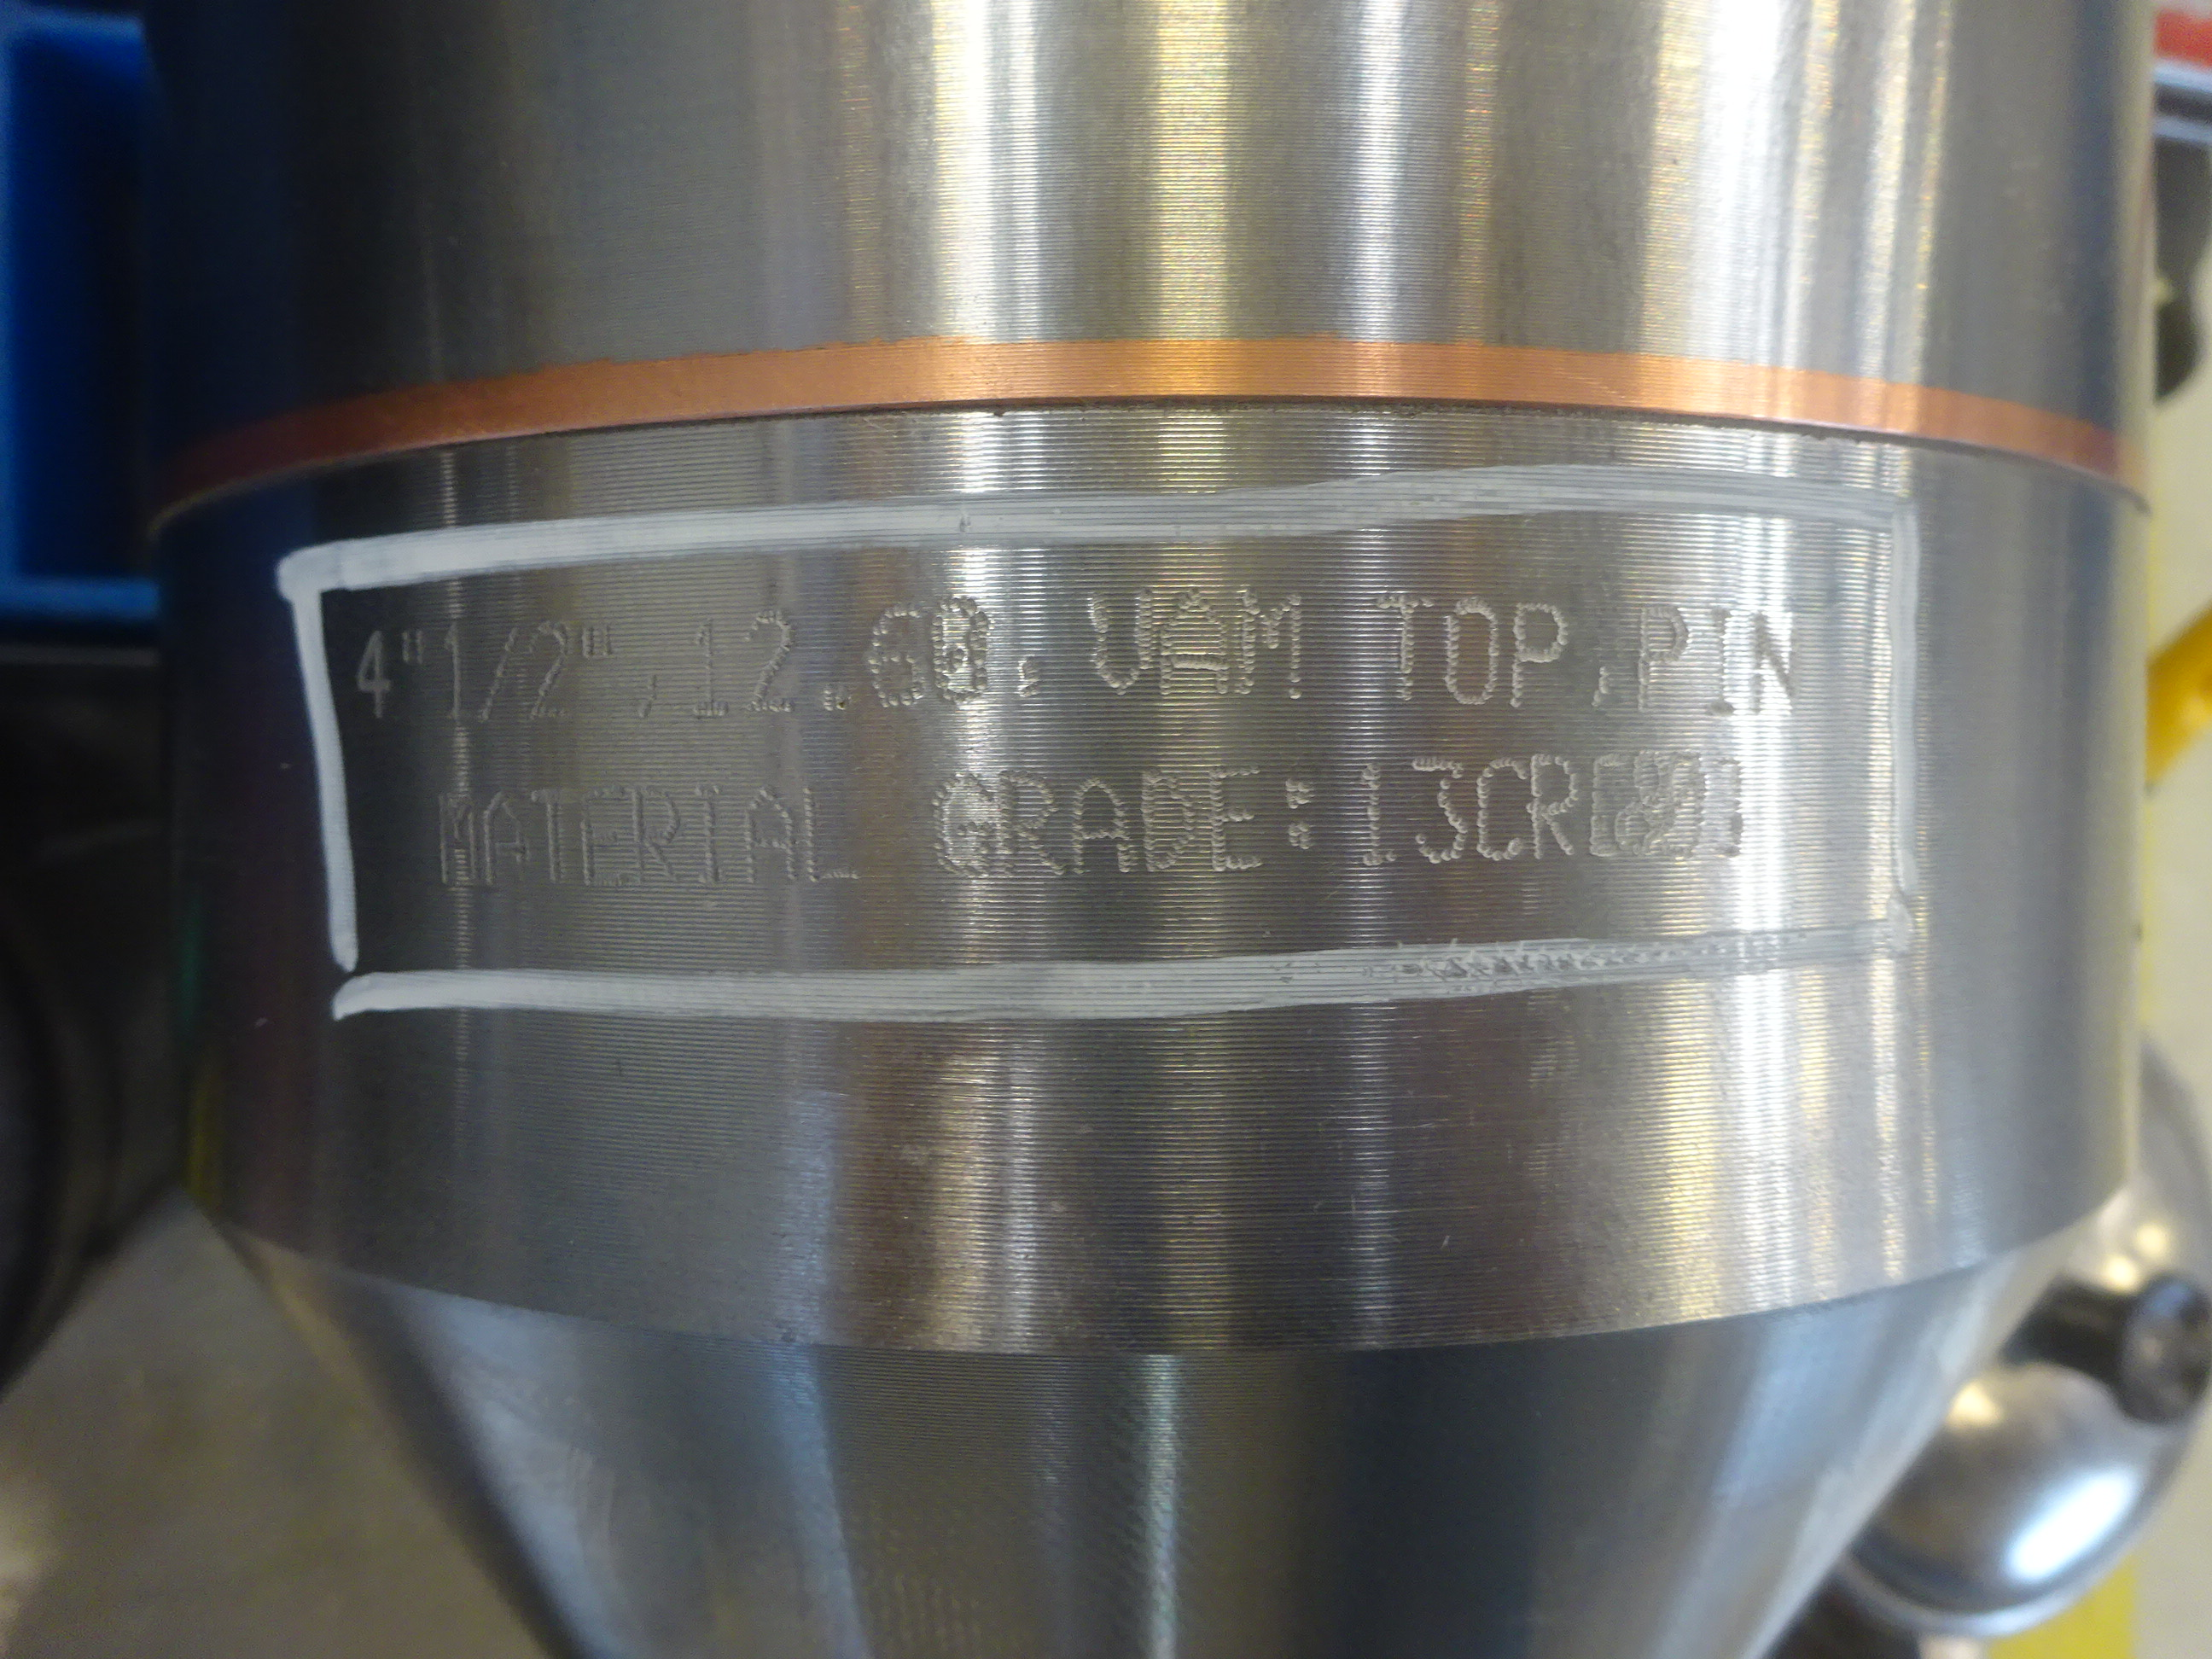character: (911, 767, 1008, 894), (1148, 579, 1238, 711), (1231, 577, 1313, 713), (789, 769, 866, 913), (1731, 603, 1817, 732), (1395, 746, 1479, 875), (859, 579, 939, 713), (991, 756, 1075, 884), (1428, 586, 1510, 713), (725, 779, 806, 906), (1360, 587, 1444, 711), (1061, 762, 1143, 885), (1500, 584, 1576, 711), (1338, 751, 1414, 878), (928, 582, 1001, 713), (1085, 579, 1162, 702), (737, 598, 810, 727), (1127, 762, 1200, 889), (1519, 744, 1592, 871), (624, 770, 695, 897), (1195, 762, 1271, 880), (521, 612, 596, 732), (1634, 598, 1702, 718), (681, 760, 735, 903), (1470, 746, 1529, 875), (577, 765, 636, 890), (475, 774, 536, 892), (470, 610, 526, 735), (519, 782, 585, 884), (685, 598, 737, 723), (425, 622, 481, 732), (345, 631, 409, 725), (1689, 603, 1738, 723), (427, 793, 484, 892)
